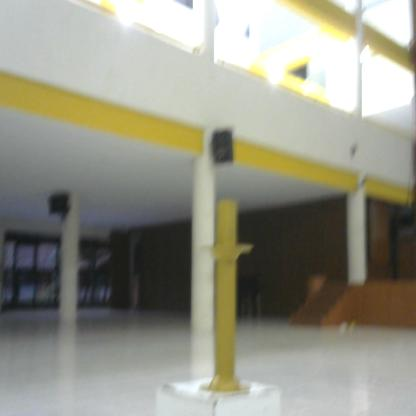pole: (194, 194, 261, 402)
